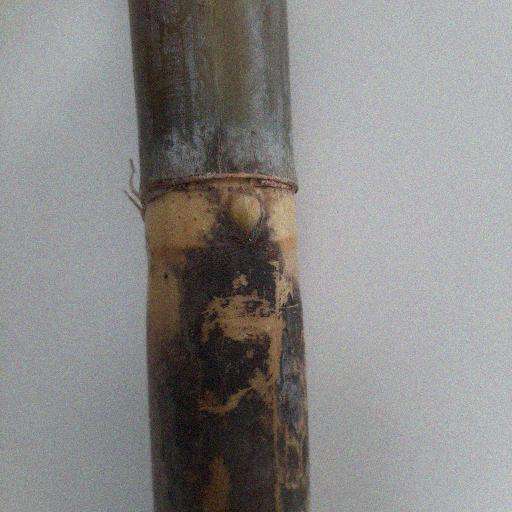Bud: (225, 190, 267, 235)
